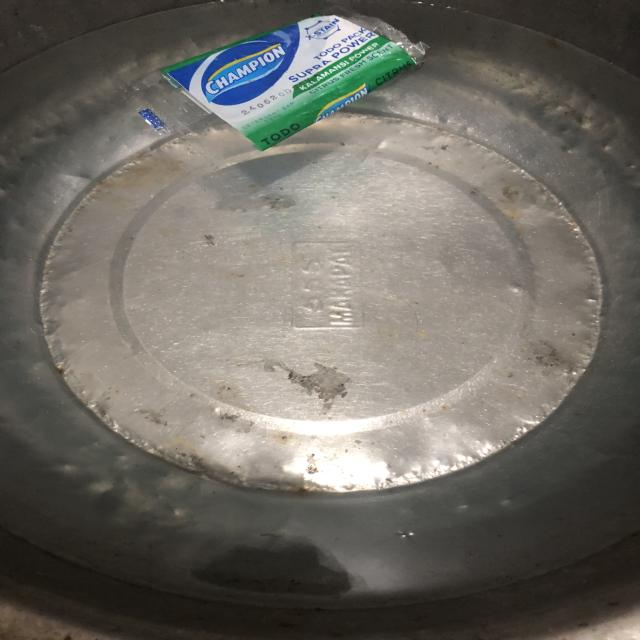Plastic Wrapper: (110, 2, 444, 166)
